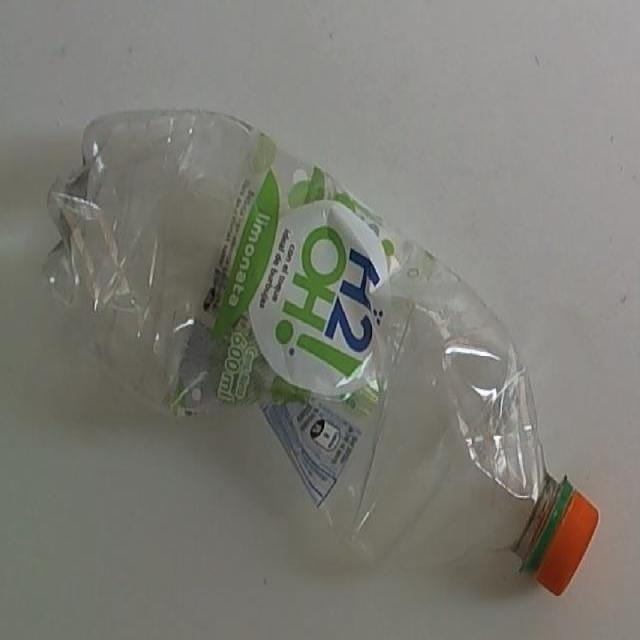defect: (40, 102, 602, 602)
